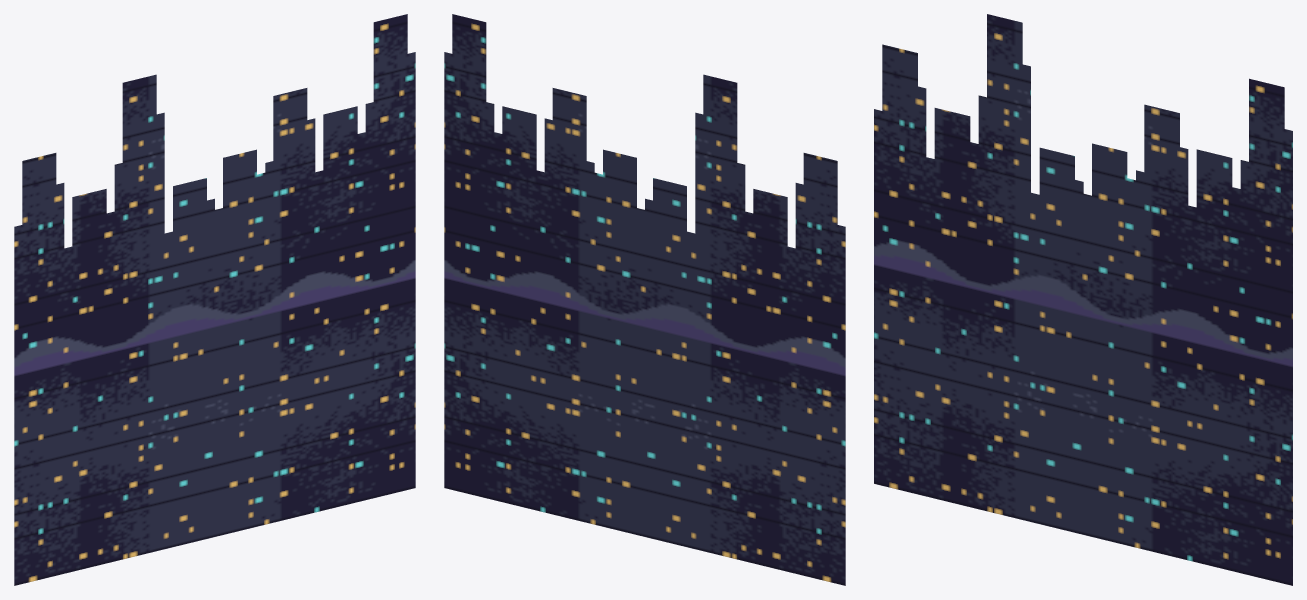
File: cysky.stepped__tile.glb
3 renders of one model, left to right at view 1: azimuth 30°, elevation 25°; view 2: azimuth 150°, elevation 25°; view 3: azimuth 330°, elevation 25°, orthographic. The views are drawn at different scales.
Parts seen in each view (by area): view 1: kit_card_skyline; view 2: kit_card_skyline; view 3: kit_card_skyline.
Boxes of the visible parts, x1=… form: kit_card_skyline: x1=14, y1=14, x2=415, y2=585; kit_card_skyline: x1=444, y1=14, x2=845, y2=585; kit_card_skyline: x1=874, y1=14, x2=1292, y2=585.
Size of the model in its own units: 24 by 27.23 by 0.
1 material, 1 textured.
